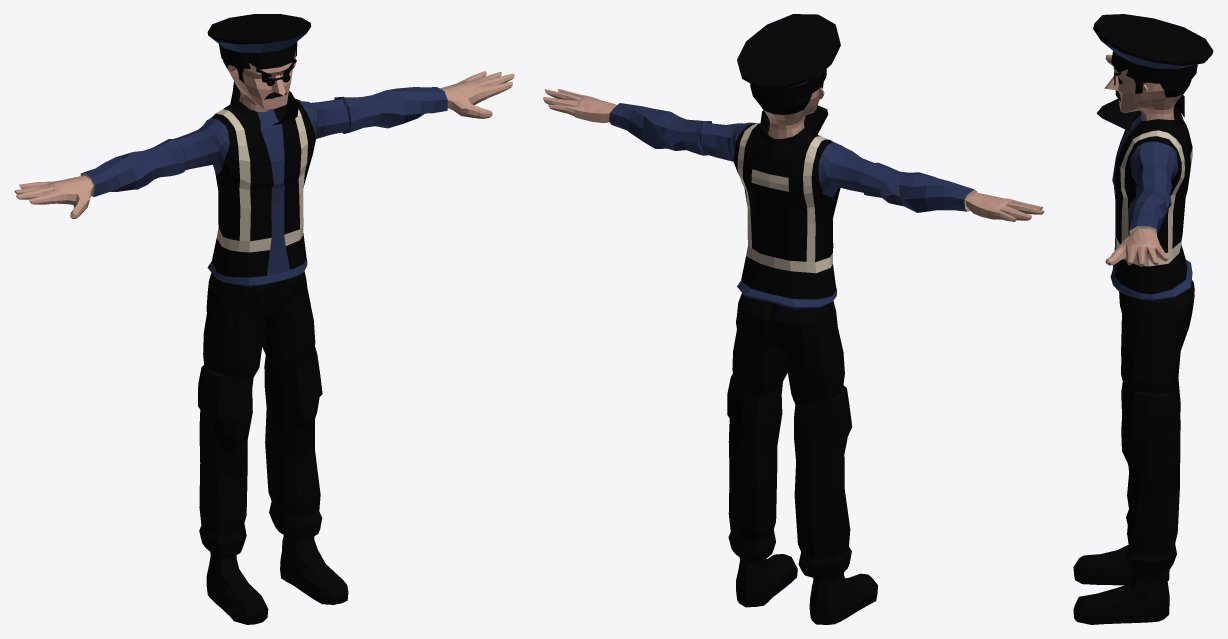
Rendered from security1.fbx.
3 renders of one model, left to right at view 1: azimuth 30°, elevation 25°; view 2: azimuth 150°, elevation 25°; view 3: azimuth 270°, elevation 25°, orthographic.
Visible parts, largest first — view 1: Worker_Body, Worker_Legs, Worker_Feet, cap, Worker_Head; view 2: Worker_Body, Worker_Legs, cap, Worker_Feet, Worker_Head; view 3: Worker_Legs, Worker_Body, cap, Worker_Feet, Worker_Head, Cylinder_3.
Boxes of the visible parts, x1,y1,x2,y2 form: Worker_Body: (14,71,514,286); Worker_Legs: (198,271,322,557); Worker_Feet: (206,535,348,624); cap: (207,14,311,69); Worker_Head: (223,22,296,111); Worker_Body: (543,88,1044,309); Worker_Legs: (727,293,852,578); cap: (737,14,840,102); Worker_Feet: (736,554,877,624); Worker_Head: (750,52,824,139); Worker_Legs: (1119,279,1194,575); Worker_Body: (1105,54,1192,300); cap: (1093,14,1213,83); Worker_Feet: (1073,545,1169,624); Worker_Head: (1104,36,1191,120); Cylinder_3: (1096,95,1184,132).
Bounding box in the file's own units: 168 × 184 × 40.65.
